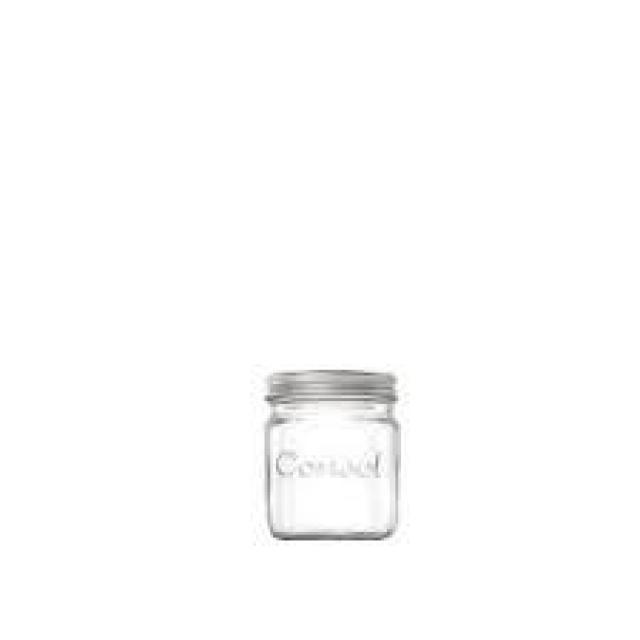Glass: (262, 366, 404, 540)
